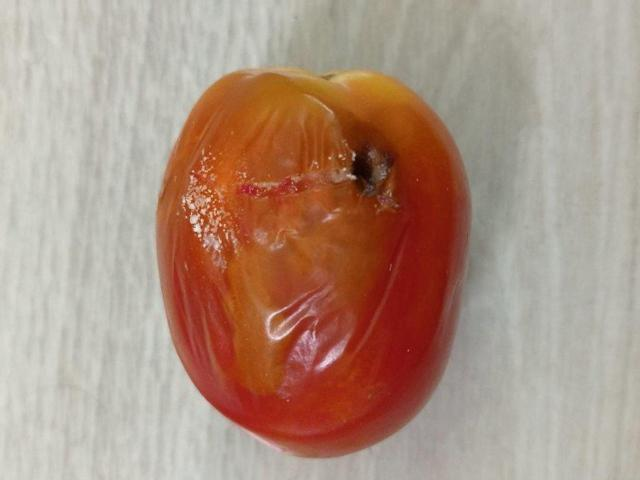defect: (151, 54, 478, 461)
